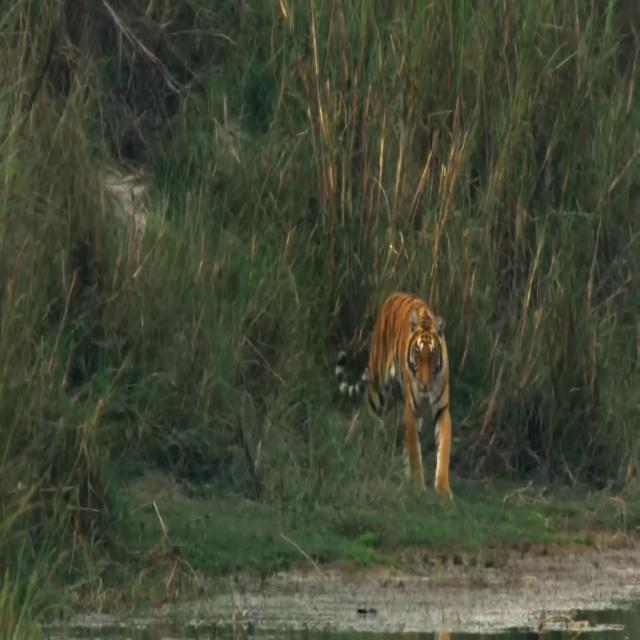tiger: (335, 293, 452, 498)
